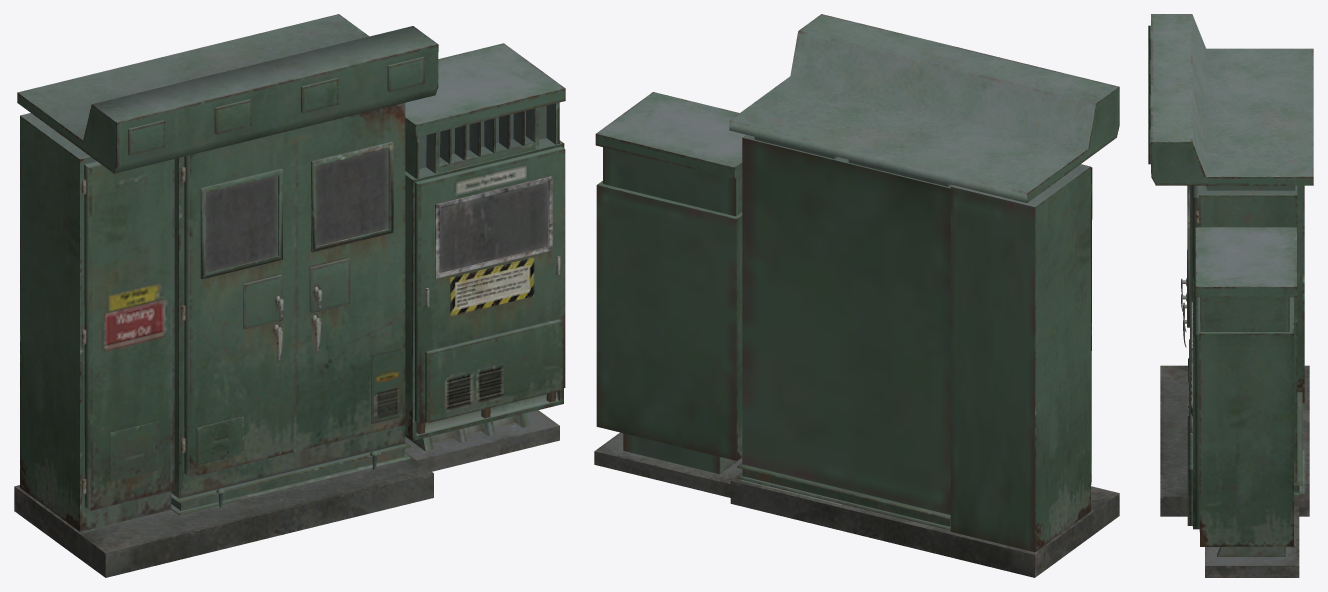
Rendered from sm22_001_voltageconverter01a.fbx.
3 renders of one model, left to right at view 1: azimuth 30°, elevation 25°; view 2: azimuth 150°, elevation 25°; view 3: azimuth 270°, elevation 25°, orthographic. The views are drawn at different scales.
Visible parts, largest first — view 1: LOD_1_Group_0_Sub_1__sm22_001_VoltageConverter01A_A_Mat, LOD_1_Group_7_Sub_1__sm22_001_VoltageConverter01A_A_Mat, LOD_1_Group_3_Sub_1__sm22_001_VoltageConverter01A_A_Mat, LOD_1_Group_2_Sub_1__sm22_001_VoltageConverter01A_A_Mat, LOD_1_Group_1_Sub_1__sm22_001_VoltageConverter01A_A_Mat, LOD_1_Group_6_Sub_1__sm22_001_VoltageConverter01A_A_Mat; view 2: LOD_1_Group_0_Sub_1__sm22_001_VoltageConverter01A_A_Mat, LOD_1_Group_7_Sub_1__sm22_001_VoltageConverter01A_A_Mat, LOD_1_Group_3_Sub_1__sm22_001_VoltageConverter01A_A_Mat, LOD_1_Group_2_Sub_1__sm22_001_VoltageConverter01A_A_Mat, LOD_1_Group_1_Sub_1__sm22_001_VoltageConverter01A_A_Mat; view 3: LOD_1_Group_7_Sub_1__sm22_001_VoltageConverter01A_A_Mat, LOD_1_Group_2_Sub_1__sm22_001_VoltageConverter01A_A_Mat, LOD_1_Group_0_Sub_1__sm22_001_VoltageConverter01A_A_Mat, LOD_1_Group_1_Sub_1__sm22_001_VoltageConverter01A_A_Mat, LOD_1_Group_3_Sub_1__sm22_001_VoltageConverter01A_A_Mat, LOD_1_Group_6_Sub_1__sm22_001_VoltageConverter01A_A_Mat.
Boxes of the visible parts, x1=… form: LOD_1_Group_0_Sub_1__sm22_001_VoltageConverter01A_A_Mat: x1=171, y1=103, x2=410, y2=515; LOD_1_Group_7_Sub_1__sm22_001_VoltageConverter01A_A_Mat: x1=404, y1=43, x2=565, y2=471; LOD_1_Group_3_Sub_1__sm22_001_VoltageConverter01A_A_Mat: x1=20, y1=113, x2=174, y2=531; LOD_1_Group_2_Sub_1__sm22_001_VoltageConverter01A_A_Mat: x1=17, y1=14, x2=438, y2=173; LOD_1_Group_1_Sub_1__sm22_001_VoltageConverter01A_A_Mat: x1=14, y1=452, x2=433, y2=577; LOD_1_Group_6_Sub_1__sm22_001_VoltageConverter01A_A_Mat: x1=243, y1=258, x2=350, y2=362; LOD_1_Group_0_Sub_1__sm22_001_VoltageConverter01A_A_Mat: x1=737, y1=134, x2=952, y2=530; LOD_1_Group_7_Sub_1__sm22_001_VoltageConverter01A_A_Mat: x1=594, y1=92, x2=745, y2=497; LOD_1_Group_3_Sub_1__sm22_001_VoltageConverter01A_A_Mat: x1=950, y1=164, x2=1092, y2=552; LOD_1_Group_2_Sub_1__sm22_001_VoltageConverter01A_A_Mat: x1=729, y1=14, x2=1119, y2=202; LOD_1_Group_1_Sub_1__sm22_001_VoltageConverter01A_A_Mat: x1=730, y1=472, x2=1119, y2=577; LOD_1_Group_7_Sub_1__sm22_001_VoltageConverter01A_A_Mat: x1=1187, y1=227, x2=1299, y2=577; LOD_1_Group_2_Sub_1__sm22_001_VoltageConverter01A_A_Mat: x1=1148, y1=14, x2=1313, y2=190; LOD_1_Group_0_Sub_1__sm22_001_VoltageConverter01A_A_Mat: x1=1187, y1=185, x2=1302, y2=495; LOD_1_Group_1_Sub_1__sm22_001_VoltageConverter01A_A_Mat: x1=1160, y1=365, x2=1309, y2=516; LOD_1_Group_3_Sub_1__sm22_001_VoltageConverter01A_A_Mat: x1=1297, y1=185, x2=1304, y2=403; LOD_1_Group_6_Sub_1__sm22_001_VoltageConverter01A_A_Mat: x1=1181, y1=250, x2=1189, y2=347.
Bounding box in the file's own units: 2.98 × 2.7 × 1.08.
